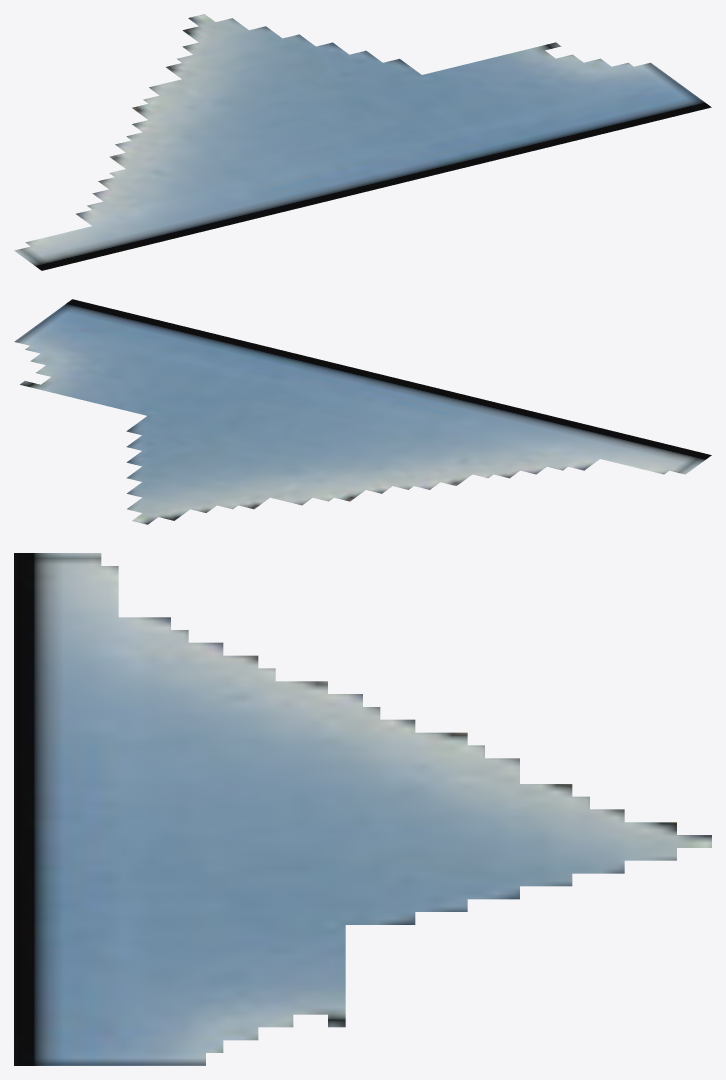
The model's file is east-south-africa-sea.gltf.
The picture shows the model from 3 angles, top to bottom: view 1: azimuth 30°, elevation 25°; view 2: azimuth 150°, elevation 25°; view 3: azimuth 270°, elevation 25°; orthographic projection. The views are drawn at different scales.
Visible parts, largest first — view 1: Plane; view 2: Plane; view 3: Plane.
Part boxes in pixels (box(x1,y1,x2,y2)): Plane: box(14, 14, 711, 270); Plane: box(14, 299, 711, 524); Plane: box(14, 553, 711, 1065).
Bounding box in the file's own units: 0.3949 × 0 × 0.2272.
1 material, 1 textured.
